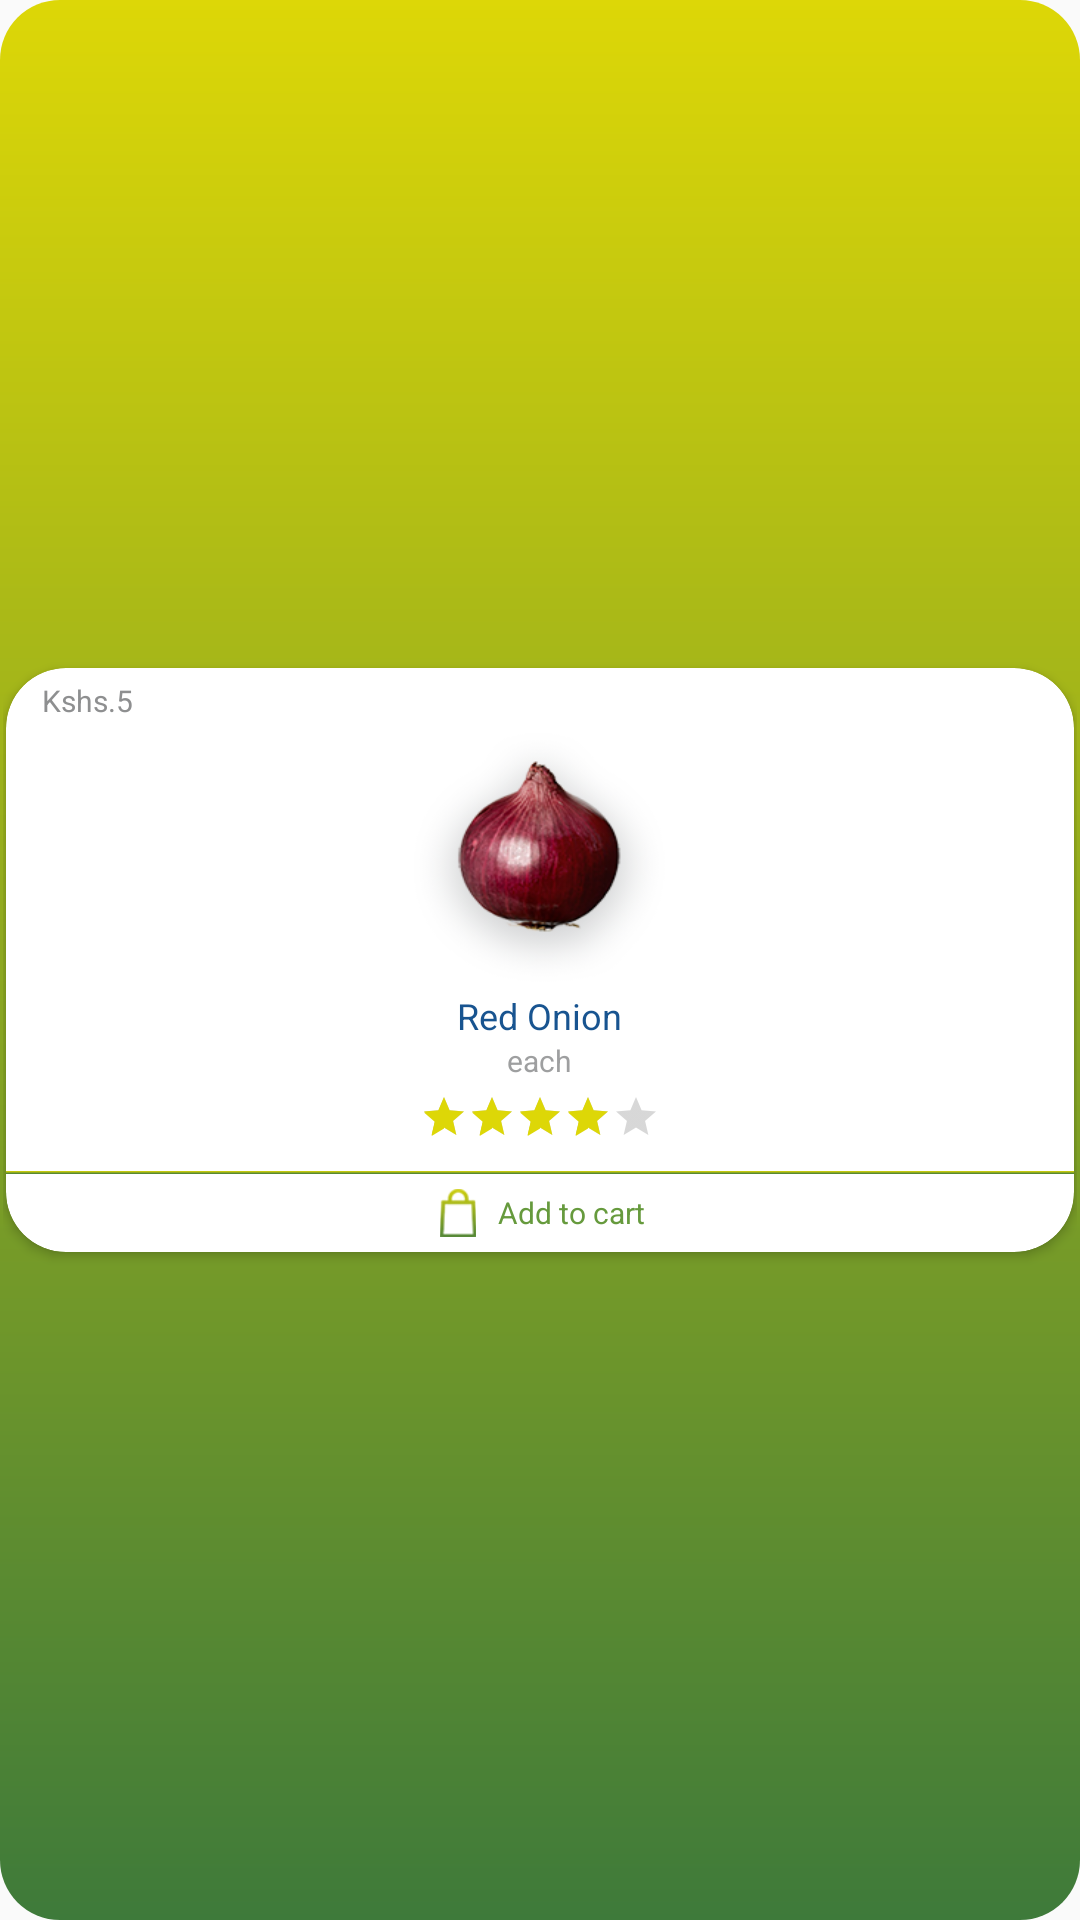

Where to tap for icons on this 1080px x 1920px app screen, as point (x, y):
shop cart: point (458, 1213)
